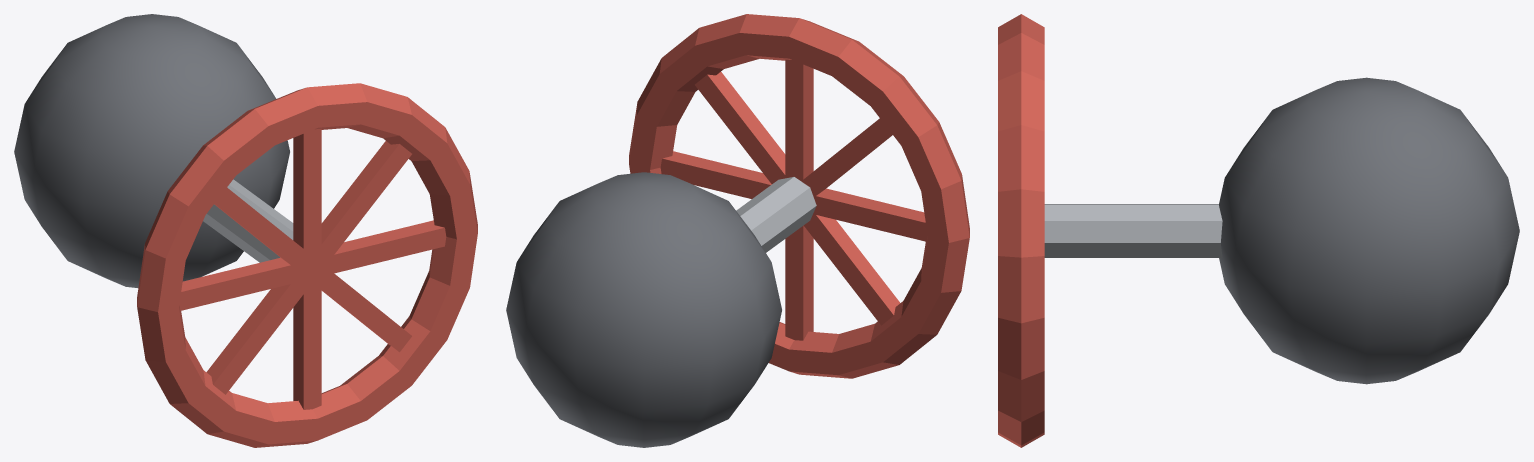
Rendered from Garage_Valve.glb.
3 views of the same model, side by side, from view 1: azimuth 30°, elevation 25°; view 2: azimuth 150°, elevation 25°; view 3: azimuth 270°, elevation 25° (orthographic). The views are drawn at different scales.
Visible parts, largest first — view 1: Garage_Valve; view 2: Garage_Valve; view 3: Garage_Valve.
Part boxes in pixels (box(x1,y1,x2,y2)): Garage_Valve: box(14, 14, 477, 447); Garage_Valve: box(506, 14, 969, 447); Garage_Valve: box(998, 14, 1519, 447).
Size of the model in its own units: 0.228 by 0.228 by 0.2721.
